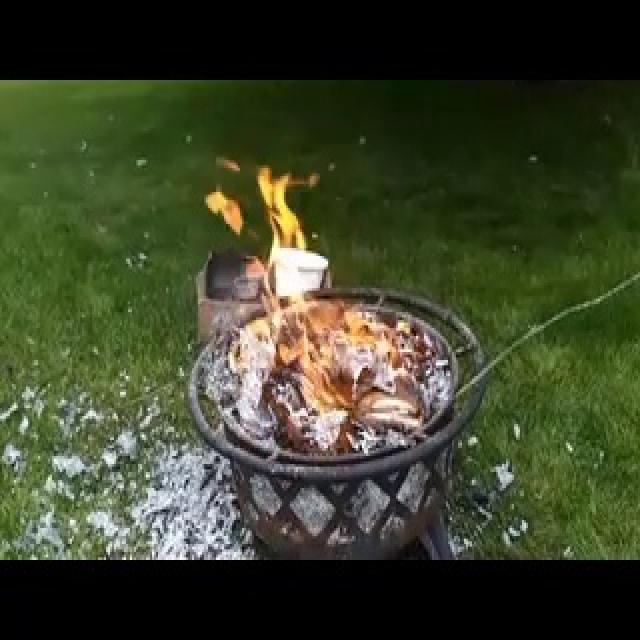fire: (207, 117, 427, 456)
